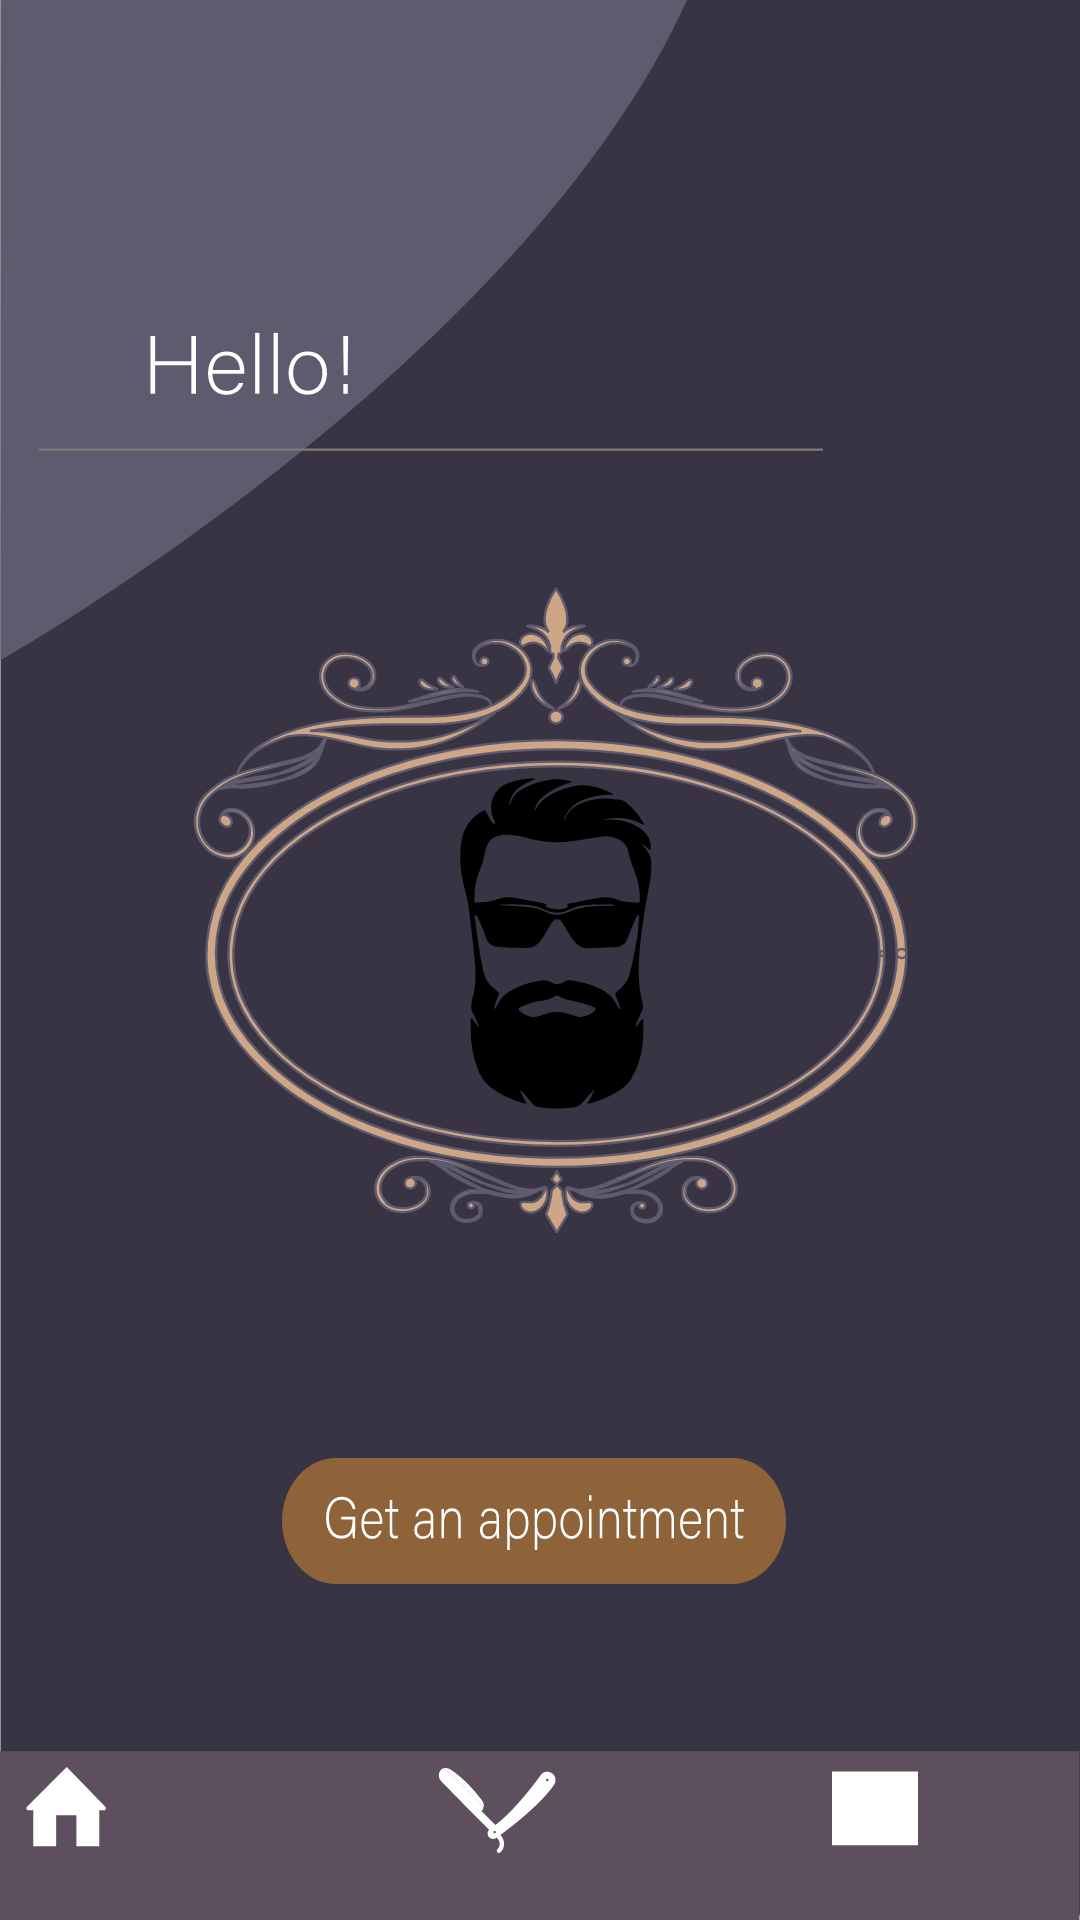

Where to tap for icons on this 1080x1920 app screen, as point (x, y):
homebutton: point (66, 1807)
servicesbutton: point (497, 1810)
